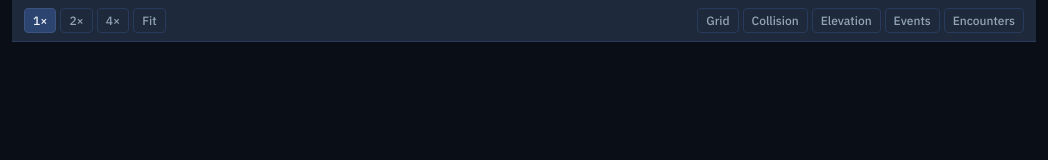
MapCanvas: Encounters overlay (Plan 6c B4) › renders the border inside the viewport with no second toggle of its own, and the legend row says how to use it
The width and height of the screenshot is (1048, 160).
Step 1. Click the button "Encounters" → (984, 20), box [944,8,1024,33]
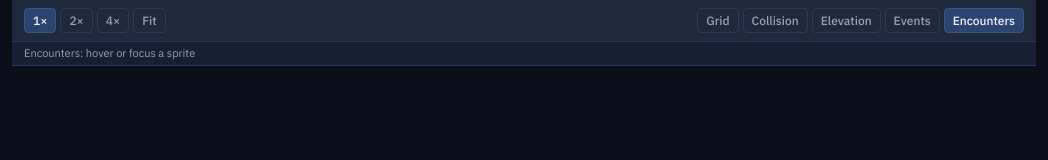
Expected: the number of buttons "Encounters" is 1, [944,8,1024,33]
Now the text "Encounters: hover or focus a sprite" is shown, box [24,46,195,61]
